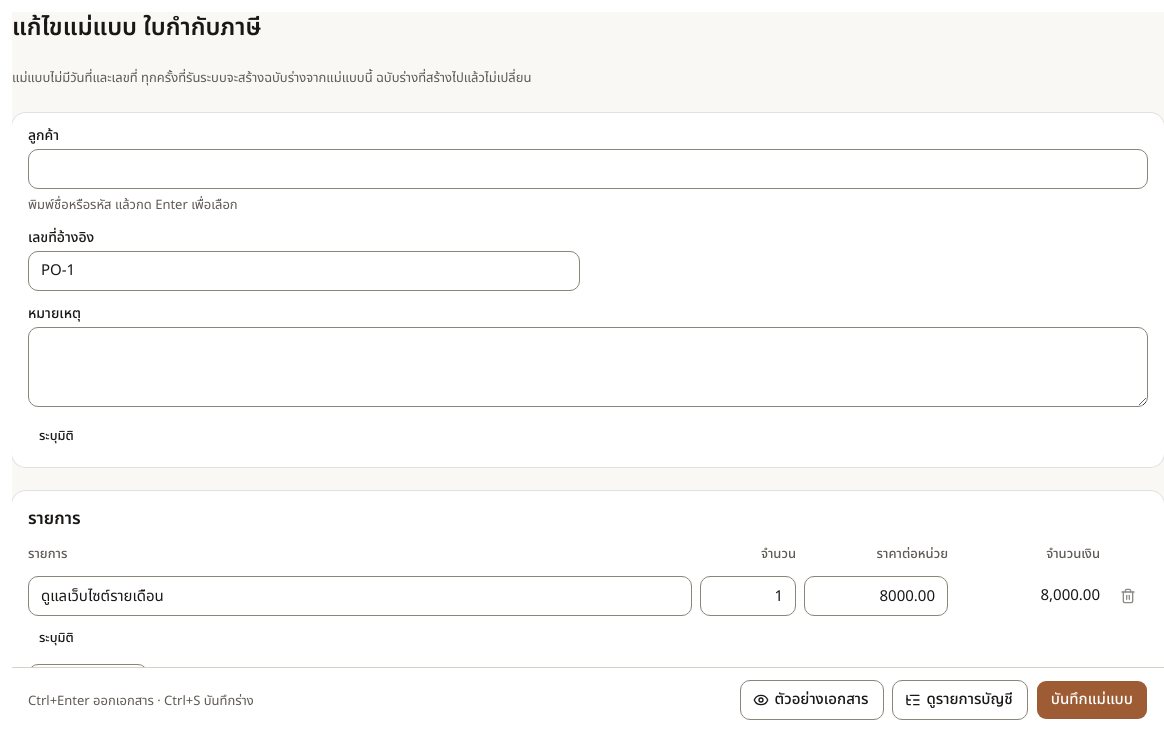
Test case: DocEditor: template mode (AC7b) › shows a refusal in place and stays on the editor
Step 1. Click the button "บันทึกแม่แบบ" → (1092, 700), box [1036,680,1148,720]
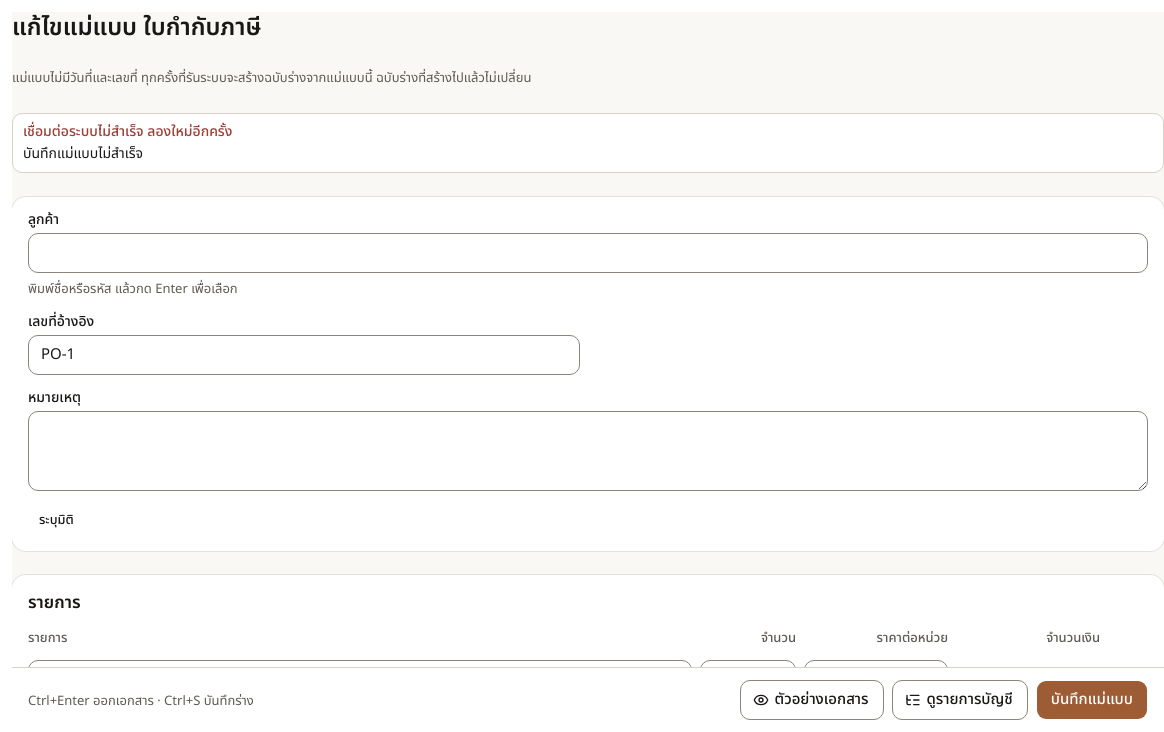
Check: the text "บันทึกแม่แบบไม่สำเร็จ" is shown, box [23,142,143,164]
